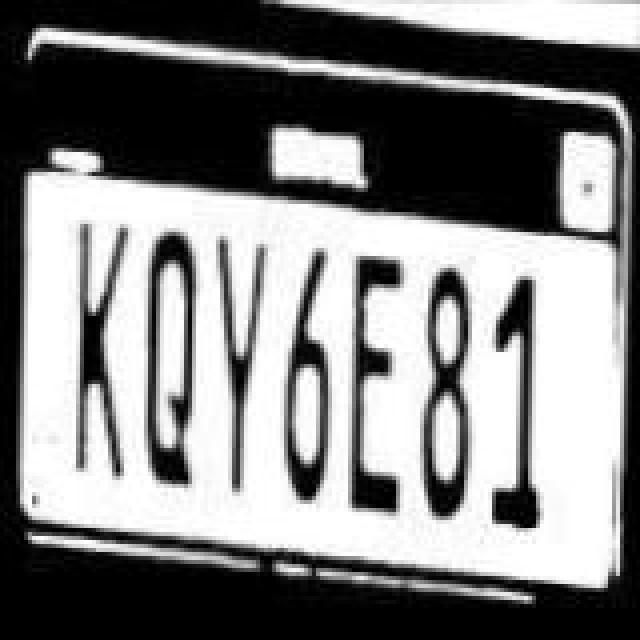1: (488, 272, 552, 536)
6: (272, 248, 336, 508)
8: (414, 268, 482, 532)
E: (334, 252, 410, 512)
K: (68, 222, 136, 482)
Q: (136, 226, 204, 494)
Y: (204, 232, 272, 496)
